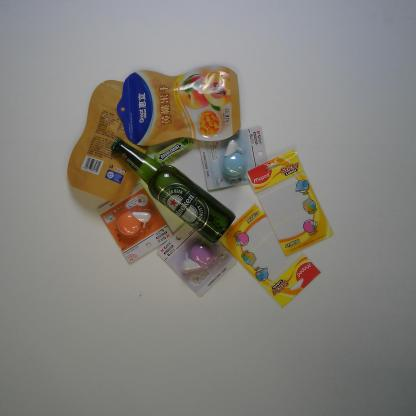Alcohol: (109, 136, 235, 245)
Dried Fruit: (66, 77, 162, 205), (116, 62, 242, 148)
Gum: (151, 132, 194, 168)
Stationery: (217, 201, 322, 310), (246, 148, 336, 258), (155, 215, 240, 300), (95, 180, 174, 266), (198, 122, 272, 192)
